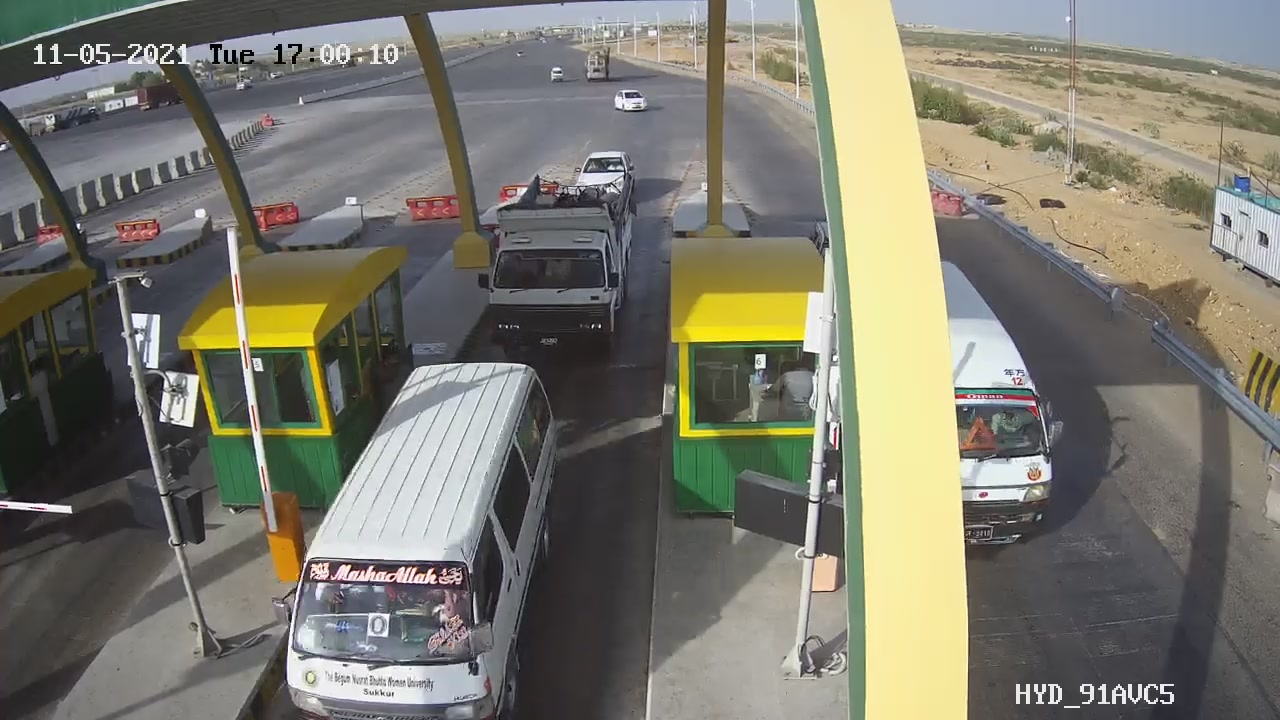F3: (452, 164, 655, 372)
